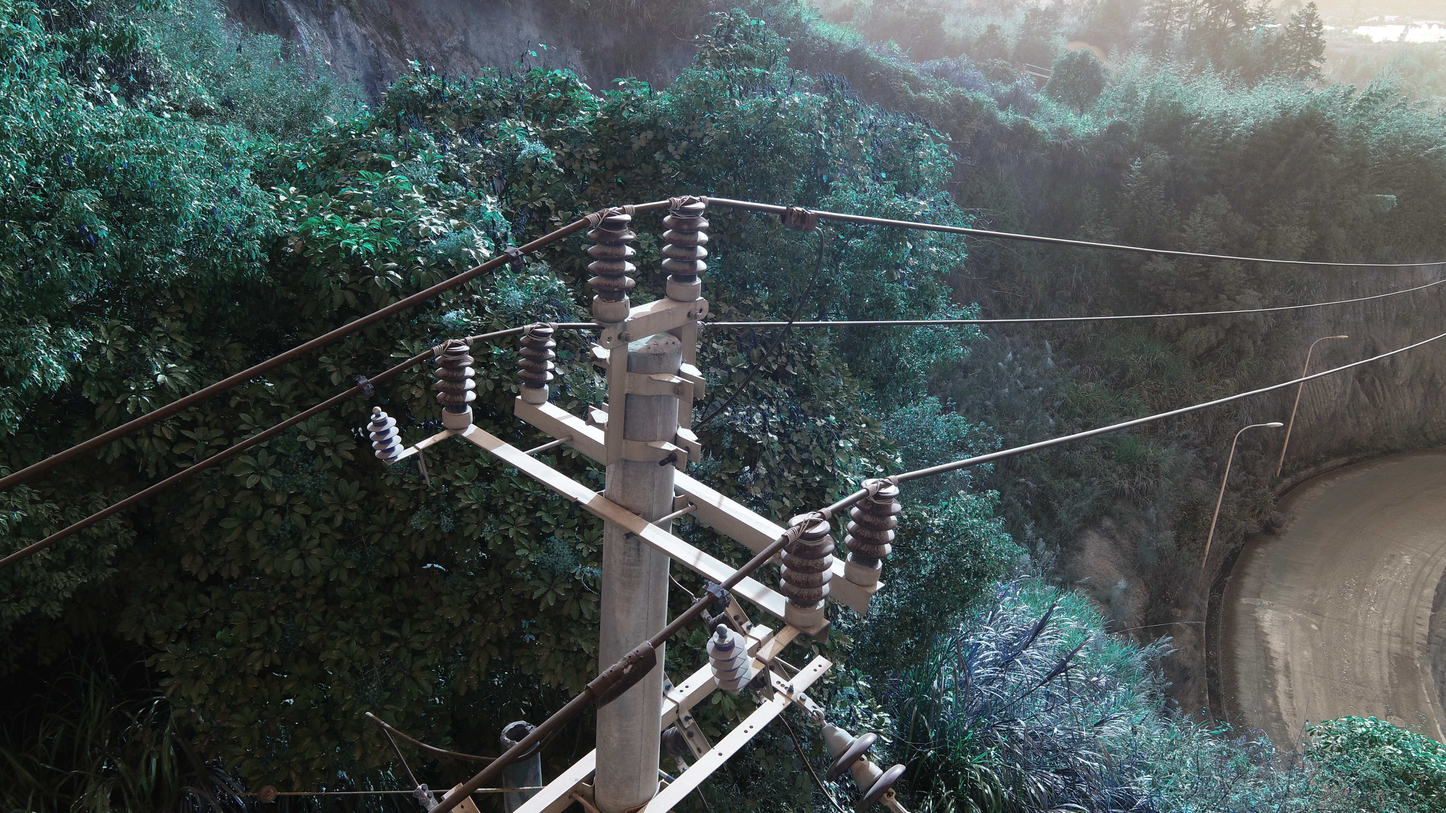severe_soiling_no_discharge_whole: (836, 474, 904, 587), (776, 510, 835, 629), (585, 206, 640, 324), (658, 195, 714, 302), (431, 336, 479, 429), (516, 324, 559, 407)
